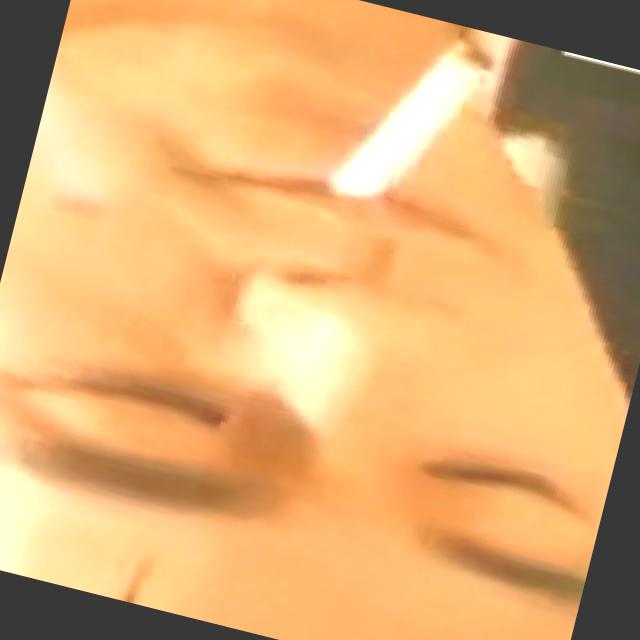cigarette: (292, 4, 508, 242)
